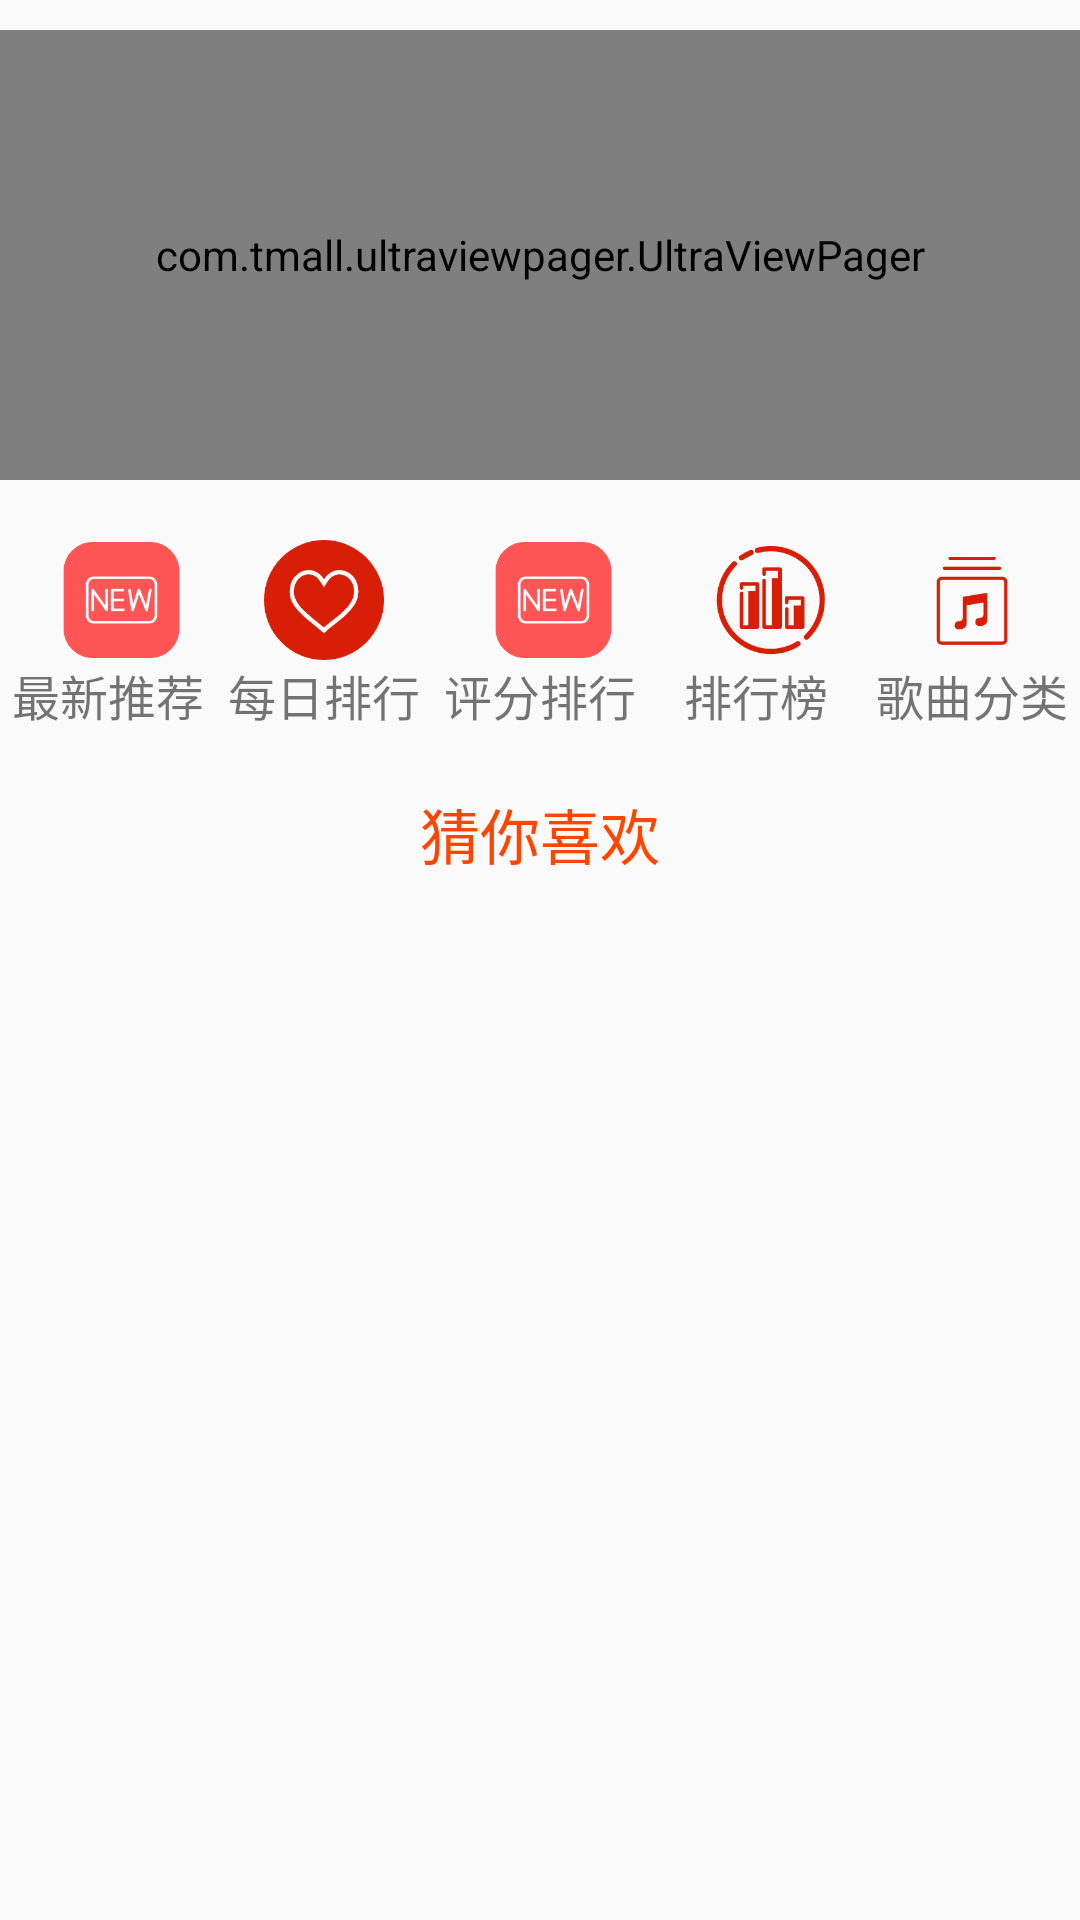

Where icons sit on this 1080px×1920px app screen, as (x1, y1, x2, y2):
gedan: (936, 557, 1008, 645)
meirituijian: (264, 540, 384, 660)
